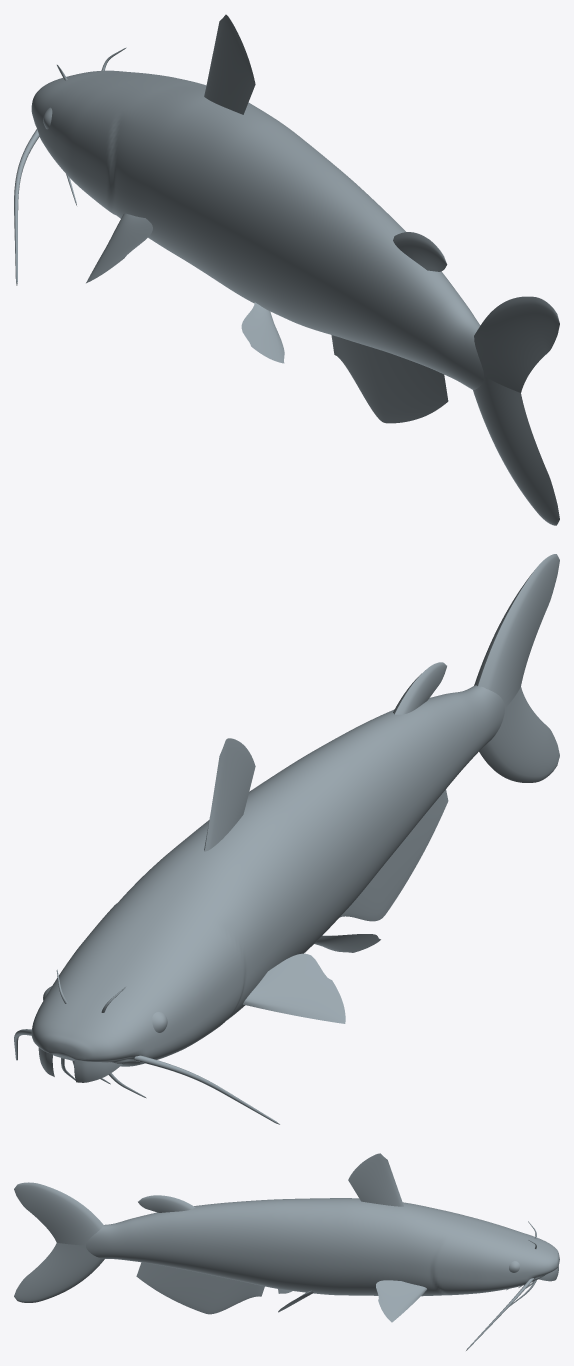
Rendered from channel_catfish.glb.
3 views of the same model, one above another, from view 1: azimuth 30°, elevation 25°; view 2: azimuth 150°, elevation 25°; view 3: azimuth 270°, elevation 25° (orthographic). The views are drawn at different scales.
Visible parts, largest first — view 1: channel_catfish; view 2: channel_catfish; view 3: channel_catfish.
Boxes of the visible parts, x1=… form: channel_catfish: x1=14, y1=14, x2=559, y2=525; channel_catfish: x1=14, y1=554, x2=559, y2=1124; channel_catfish: x1=14, y1=1153, x2=559, y2=1350.
Size of the model in its own units: 0.1834 by 0.1974 by 0.6.
